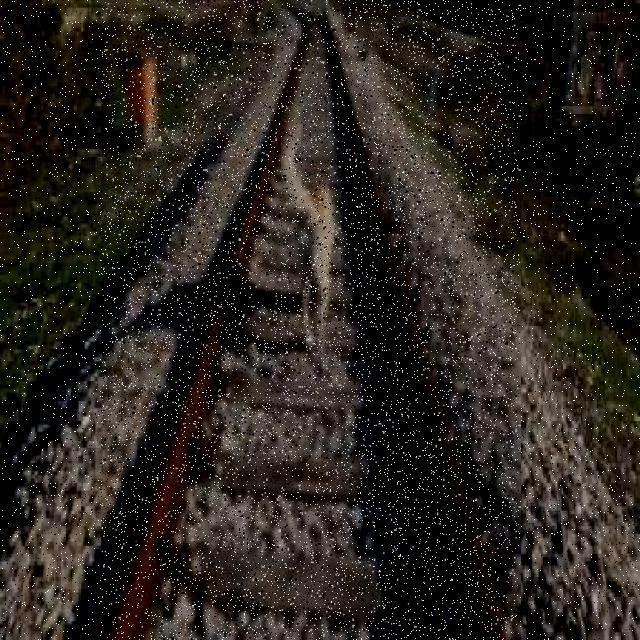rail: (102, 1, 520, 640)
